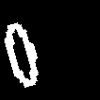chain: (5, 23, 37, 87)
